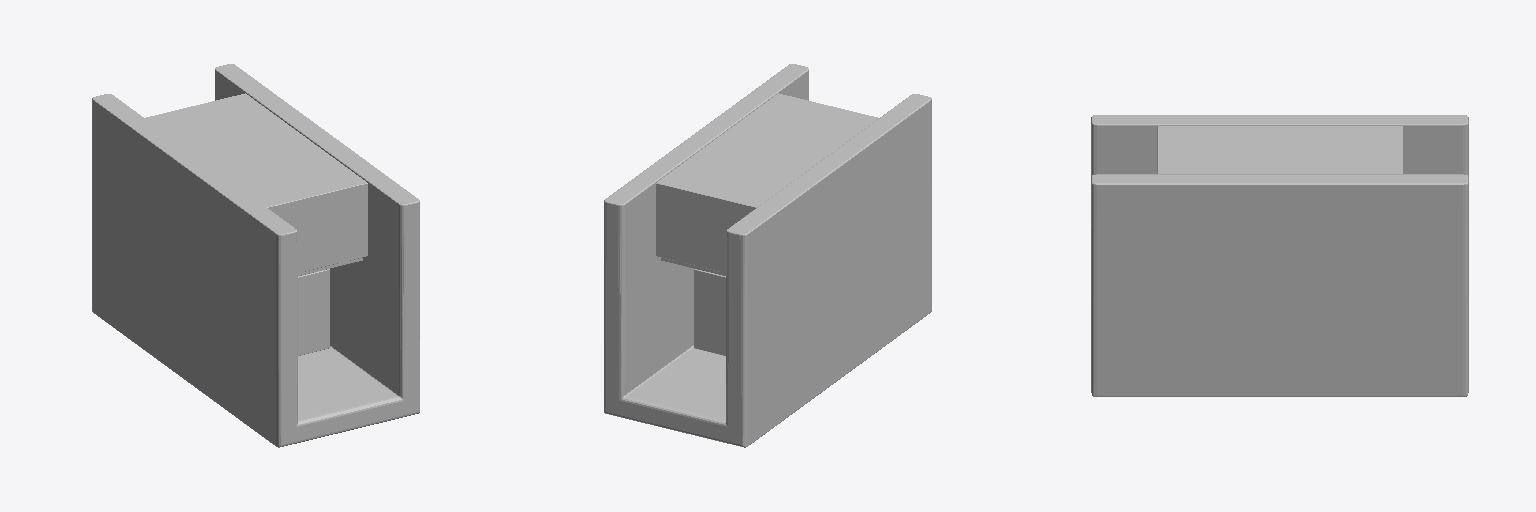
File: Astro_Lighting_Parma_160_Wall.obj
The picture shows the model from 3 angles: view 1: azimuth 30°, elevation 25°; view 2: azimuth 150°, elevation 25°; view 3: azimuth 270°, elevation 25°; orthographic projection.
Visible parts, largest first — view 1: Astro_Lighting_Parma_160_Wall; view 2: Astro_Lighting_Parma_160_Wall; view 3: Astro_Lighting_Parma_160_Wall.
Part boxes in pixels (left/top/right/bottom): Astro_Lighting_Parma_160_Wall: left=92, top=64, right=419, bottom=447; Astro_Lighting_Parma_160_Wall: left=604, top=64, right=931, bottom=447; Astro_Lighting_Parma_160_Wall: left=1091, top=115, right=1468, bottom=396.
Bounding box in the file's own units: 7 × 10 × 16.